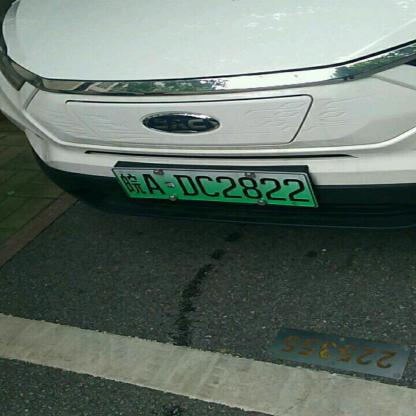lp: (113, 170, 316, 206)
